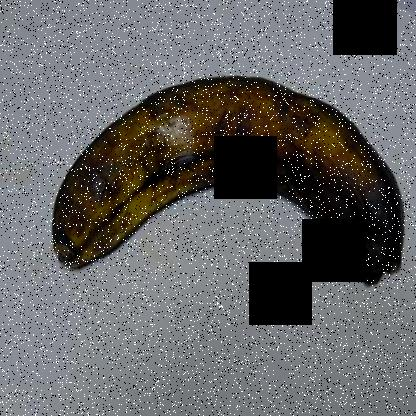overripe: (33, 36, 416, 320)
